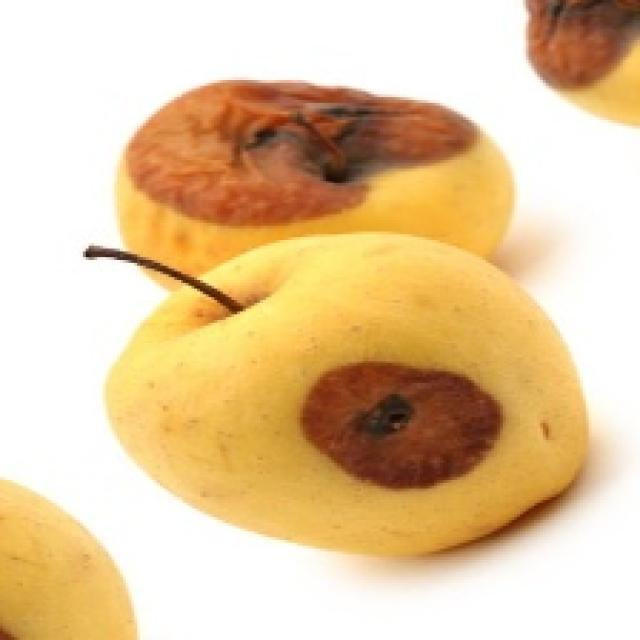rotten_apple: (112, 244, 582, 548), (124, 83, 514, 239), (524, 0, 640, 133)
